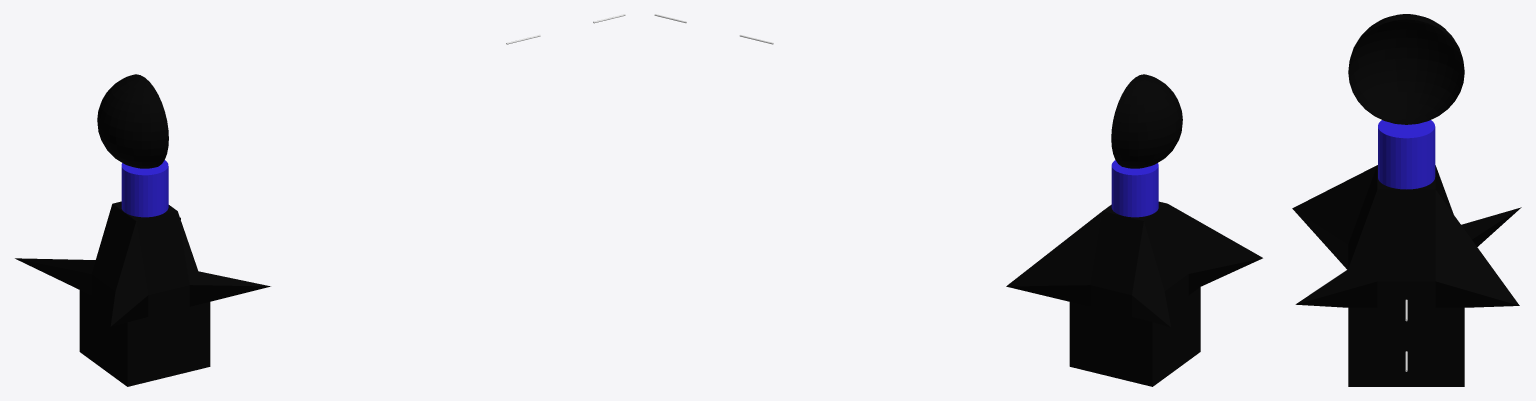
File: LaserTower.fbx
3 renders of one model, left to right at view 1: azimuth 30°, elevation 25°; view 2: azimuth 150°, elevation 25°; view 3: azimuth 270°, elevation 25°, orthographic. The views are drawn at different scales.
Parts seen in each view (by area): view 1: Cube, Sphere, Cylinder; view 2: Cube, Sphere, Cylinder; view 3: Cube, Sphere, Cylinder, Sphere.001.
Boxes of the visible parts, x1,y1,x2,y2 form: Cube: [15, 201, 270, 386]; Sphere: [97, 74, 168, 168]; Cylinder: [121, 160, 168, 217]; Cube: [1006, 201, 1262, 386]; Sphere: [1111, 74, 1182, 168]; Cylinder: [1111, 160, 1158, 217]; Cube: [1292, 165, 1521, 386]; Sphere: [1348, 14, 1464, 124]; Cylinder: [1378, 120, 1435, 189]; Sphere.001: [1349, 19, 1463, 124].
Bounding box in the file's own units: 1360 × 650 × 394.
